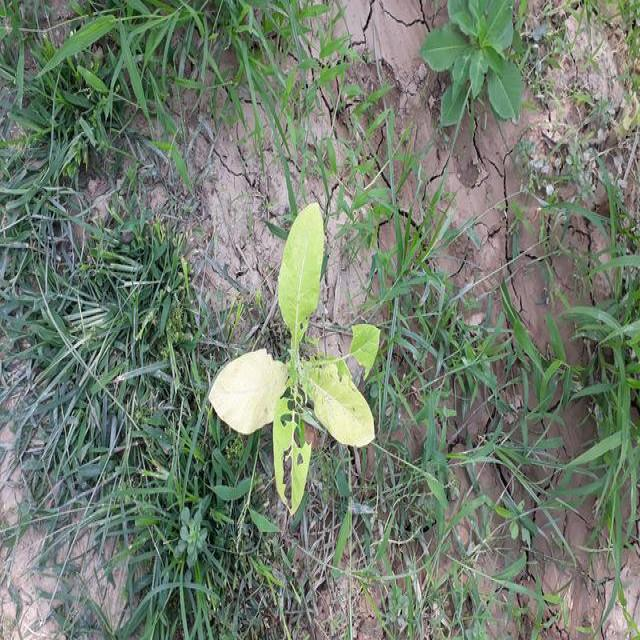crop: (203, 194, 385, 519)
